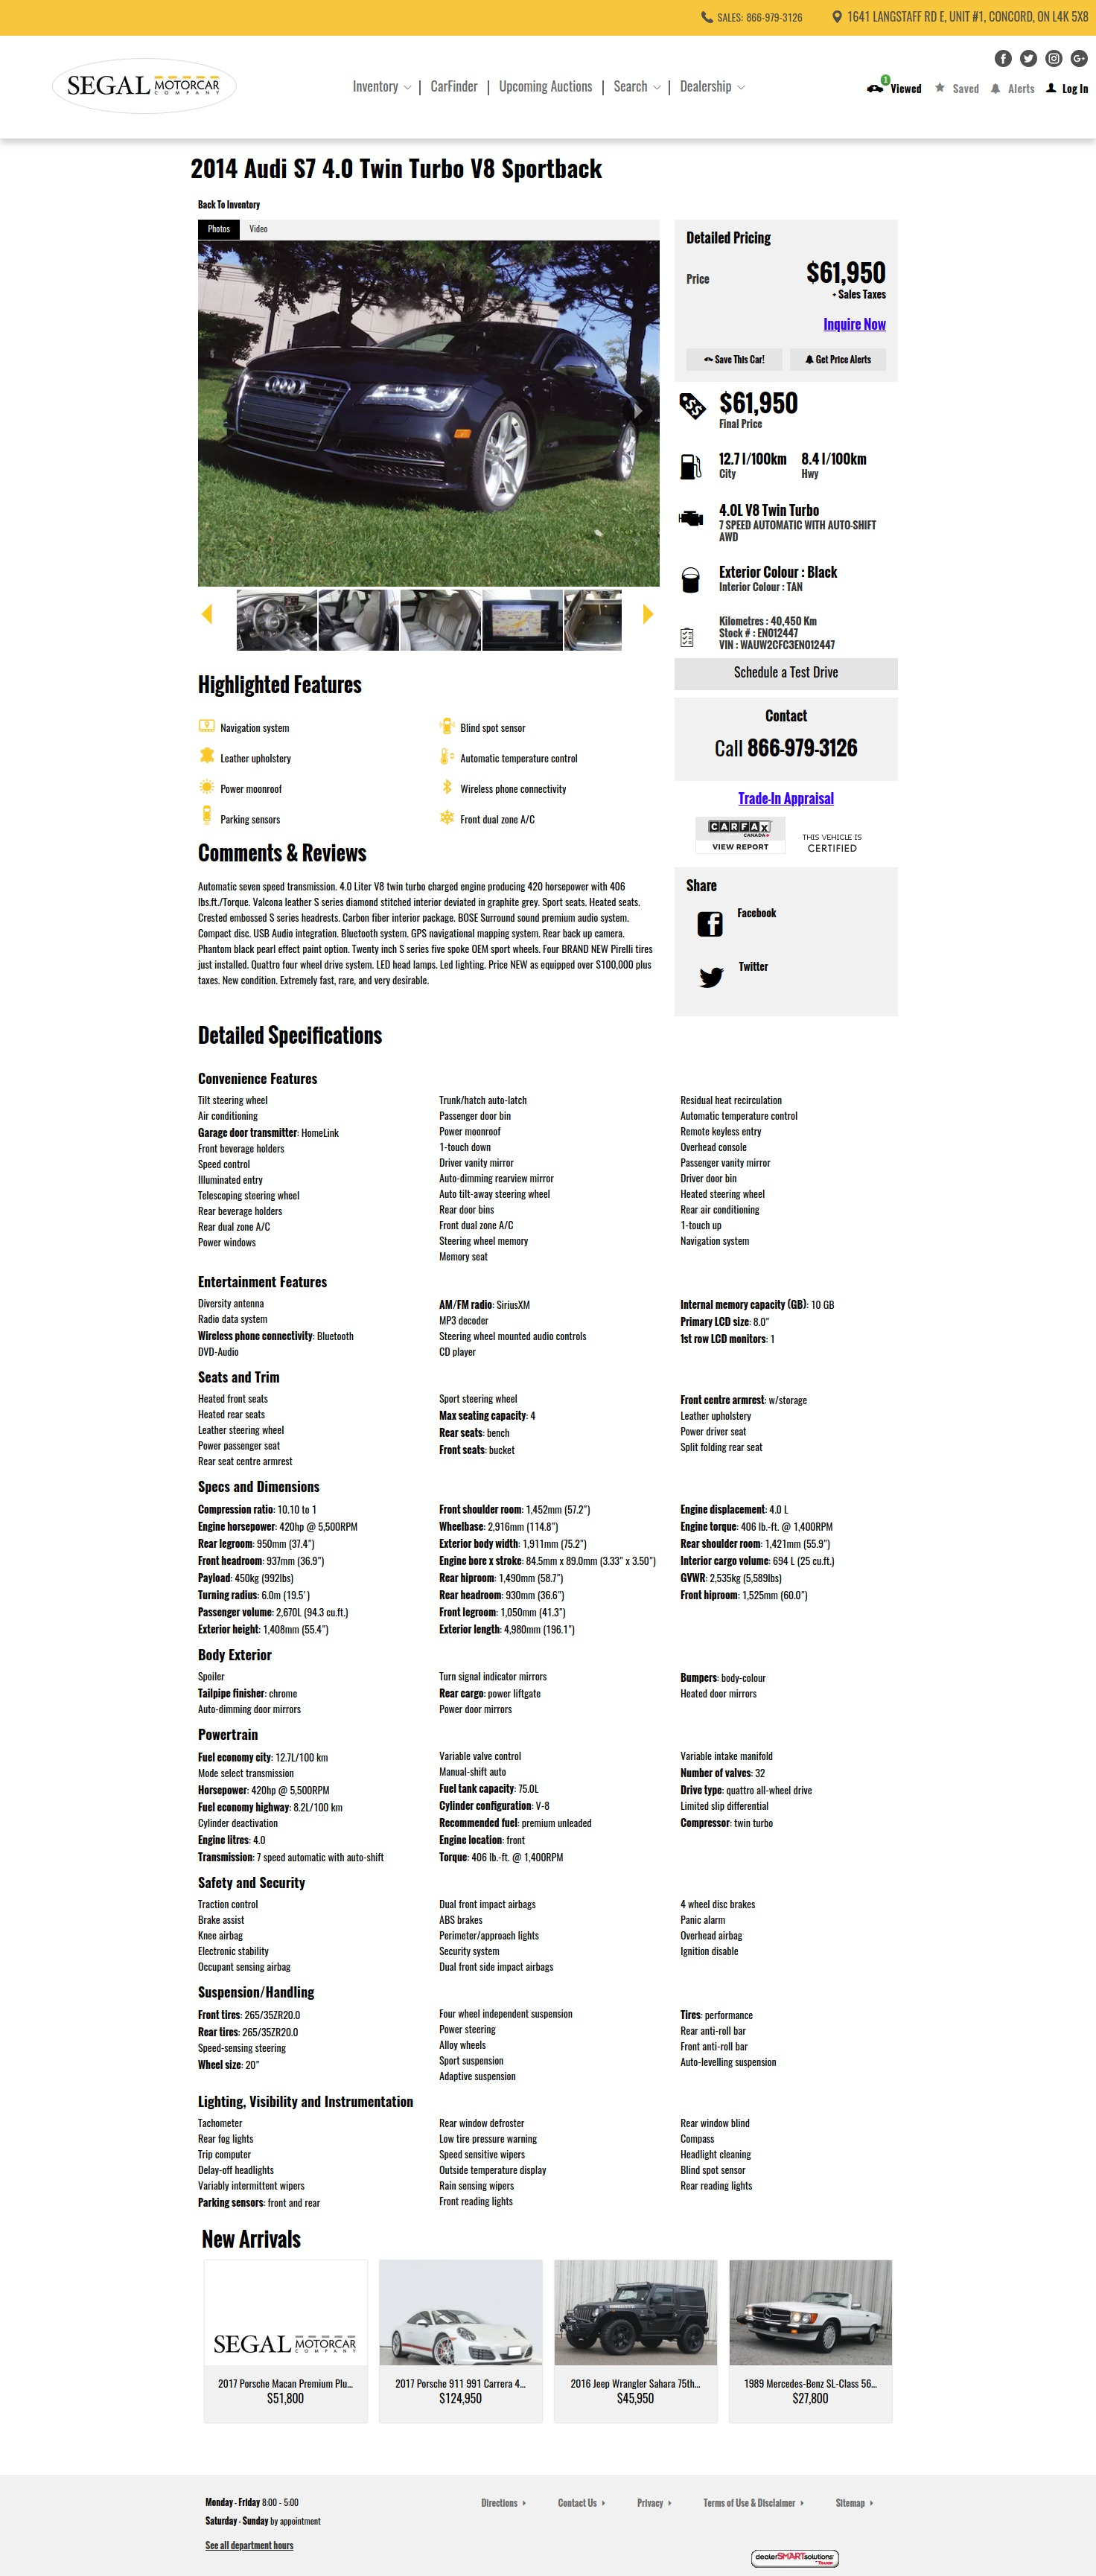car: (642, 605, 654, 626)
